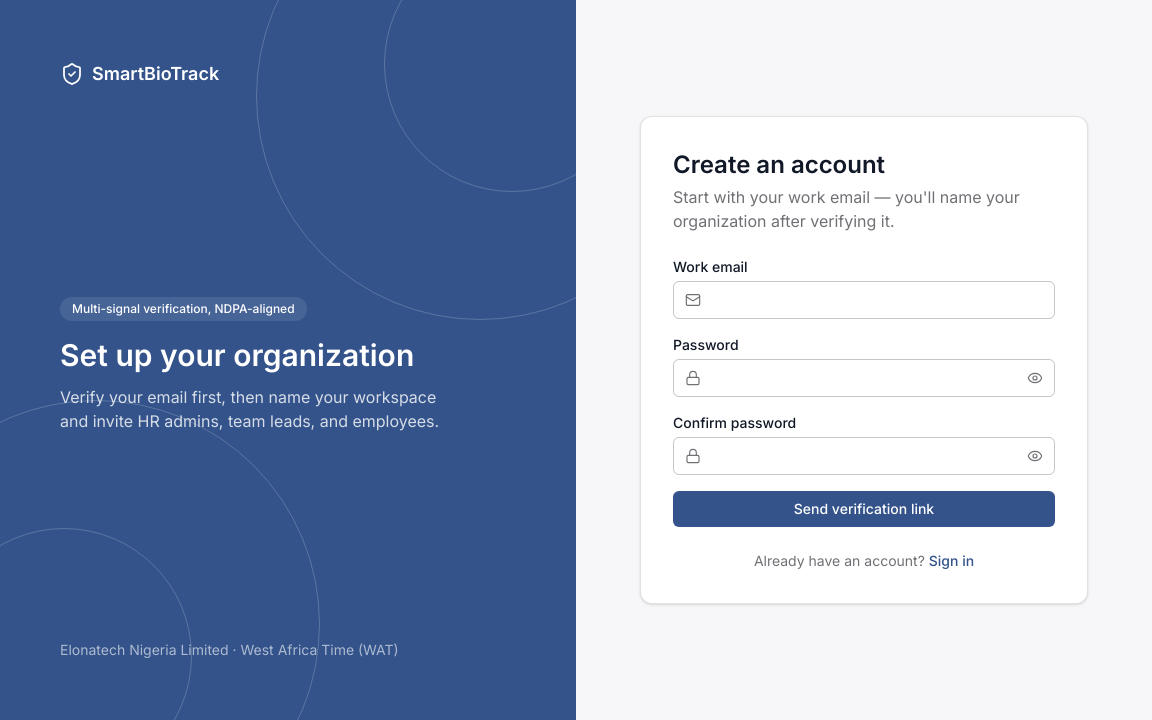
Test: submitting the form › names the address the link went to
This screenshot has width=1152, height=720.
In the field labelled "Work email": (864, 300) 673,281 -> 1055,319, type "typo@acme.test"
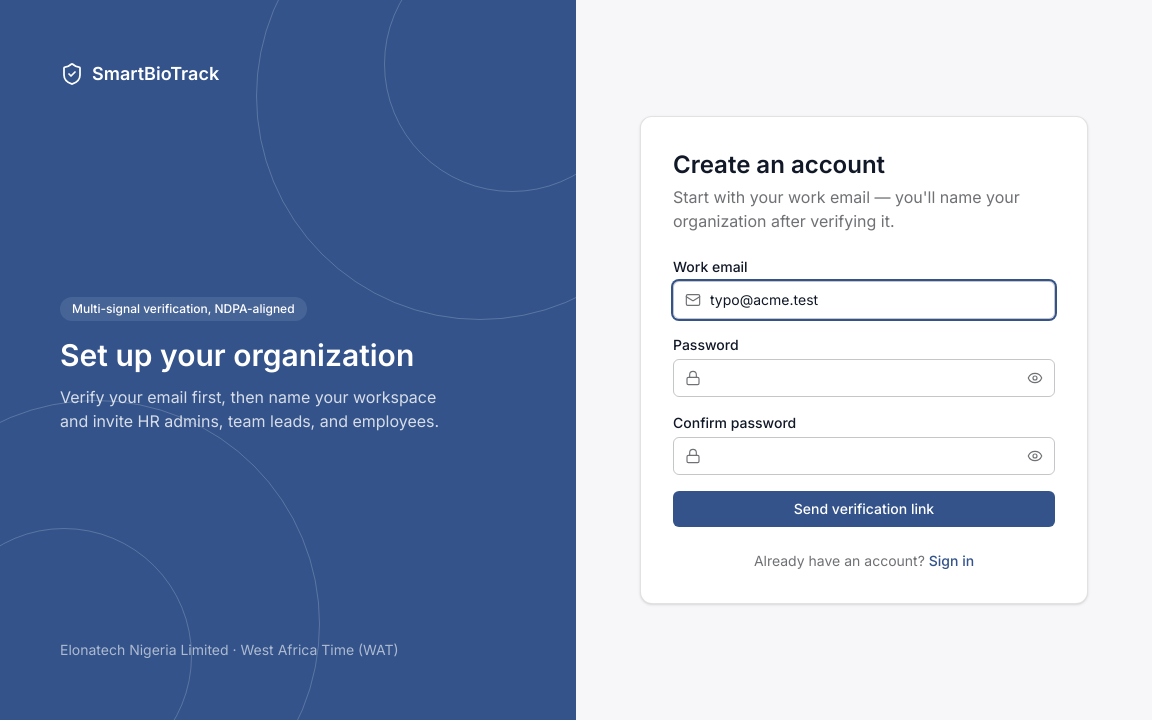
In the password field labelled "Password": (864, 378) 673,359 -> 1055,397, type "Passw0rd!x"
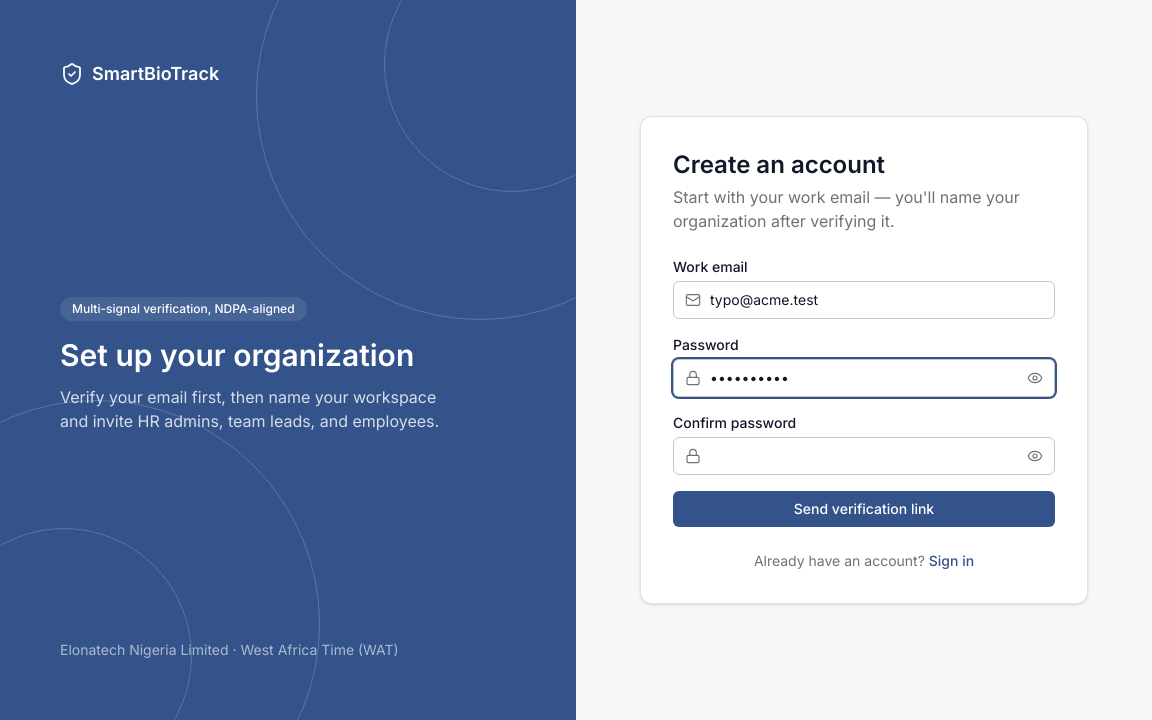
In the password field labelled "Confirm password": (864, 456) 673,437 -> 1055,475, type "Passw0rd!x"
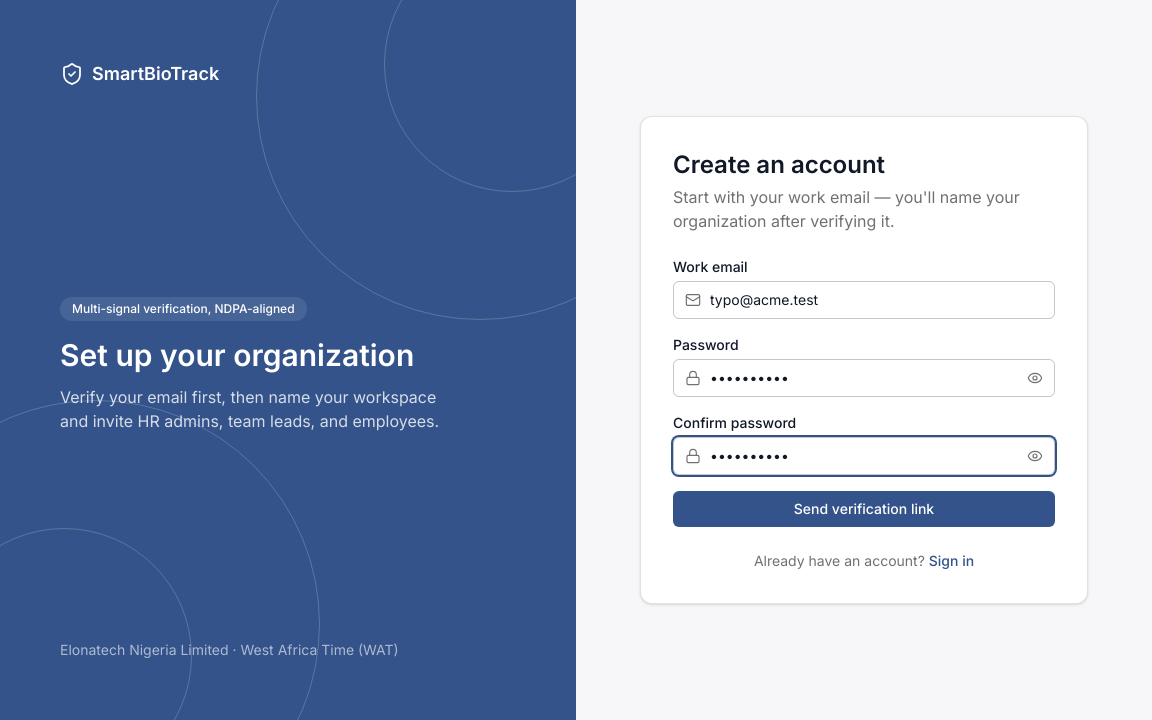
Click the button "Send verification link": (864, 509) 673,491 -> 1055,527
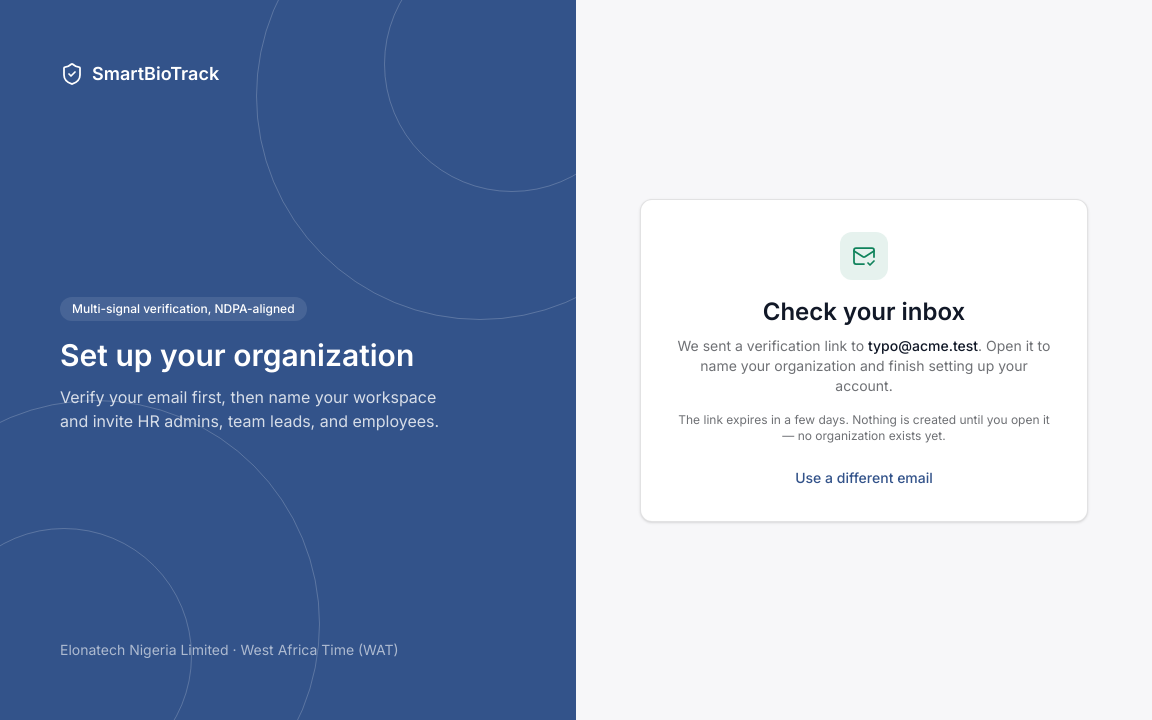
Check: the heading "Check your inbox" is shown, box 763,296 -> 965,326
Check: the text "typo@acme.test" is shown, box 868,336 -> 978,354
